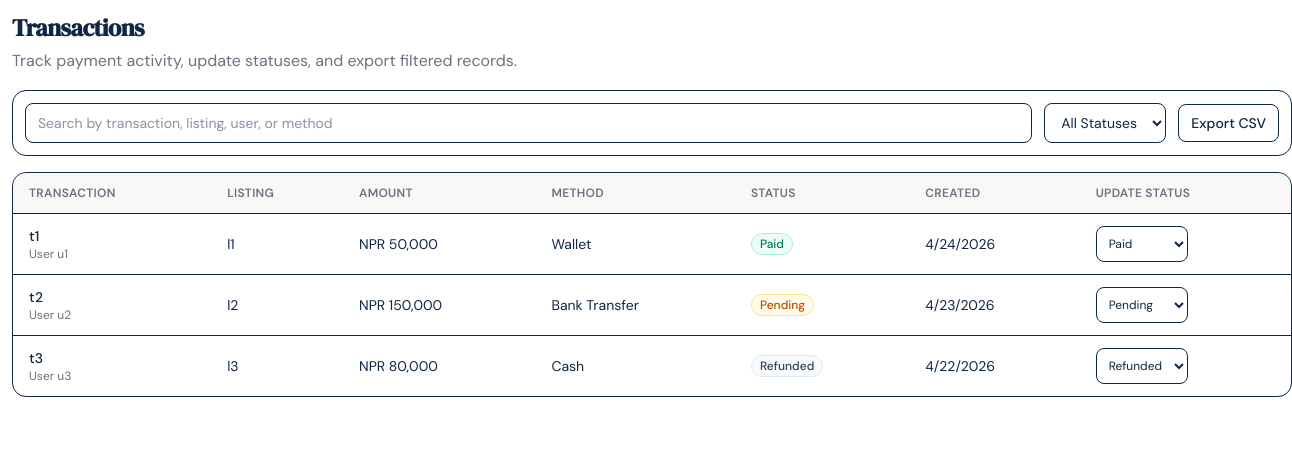
it: admin transactions page › updates status and shows success feedback
This screenshot has width=1292, height=468.
Select "paid" in the dropdown named "update status for transaction t2". click: [1142, 305]
box: [1096,287,1188,323]
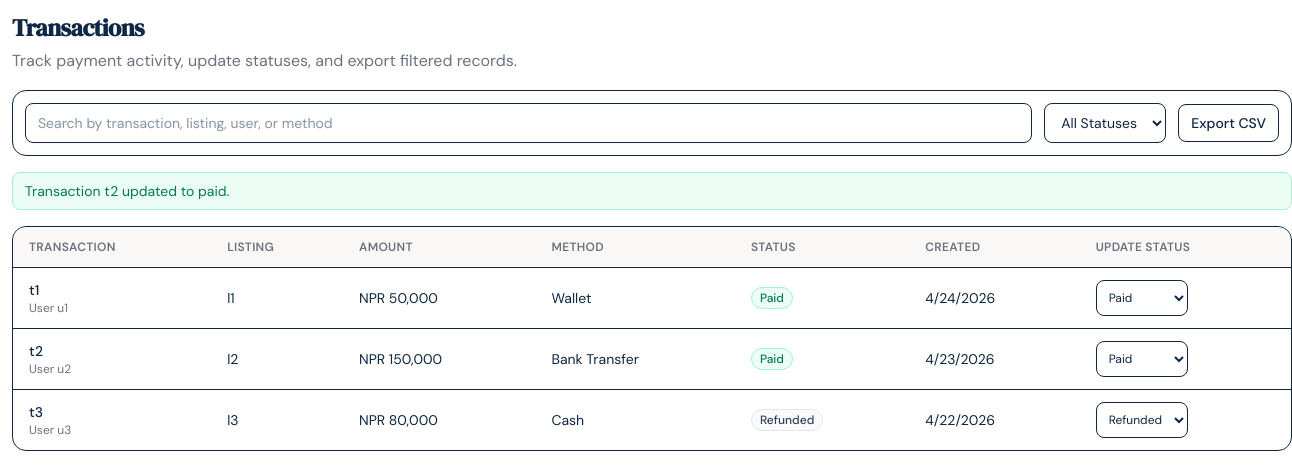
Check: the text "Transaction t2 updated to paid." is shown, box [12,172,1291,210]
